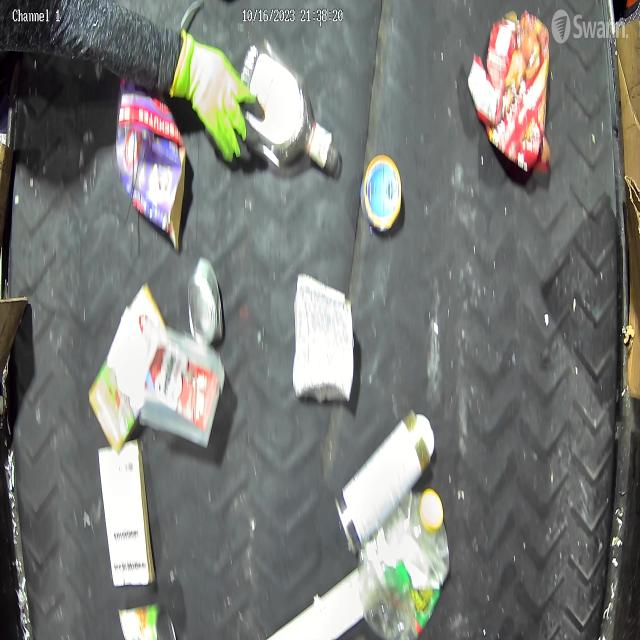can: (334, 406, 436, 556), (359, 152, 403, 235), (187, 257, 224, 348), (118, 600, 177, 640)
plastic_bottle: (356, 484, 452, 640)
